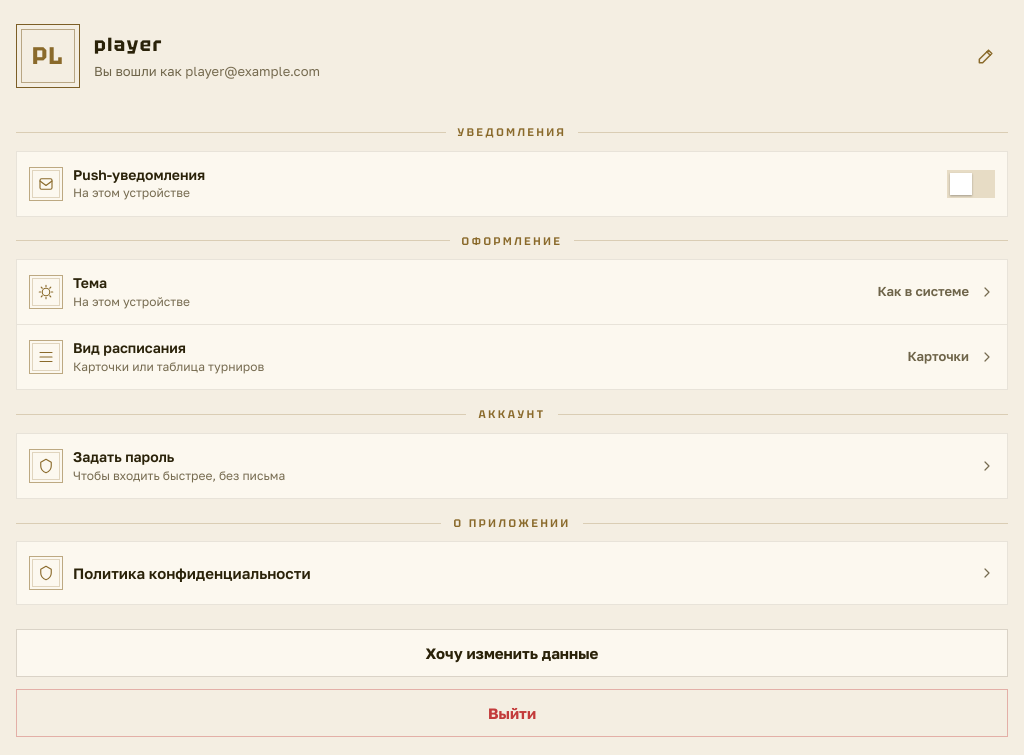
it: ProfilePage › rejects digits-only nickname on the client before PATCH
The width and height of the screenshot is (1024, 755).
Expected: the heading "player" is shown, [94,32,163,57]
Click the button named "Редактировать профиль".
click(986, 56)  # box [964,34,1008,78]
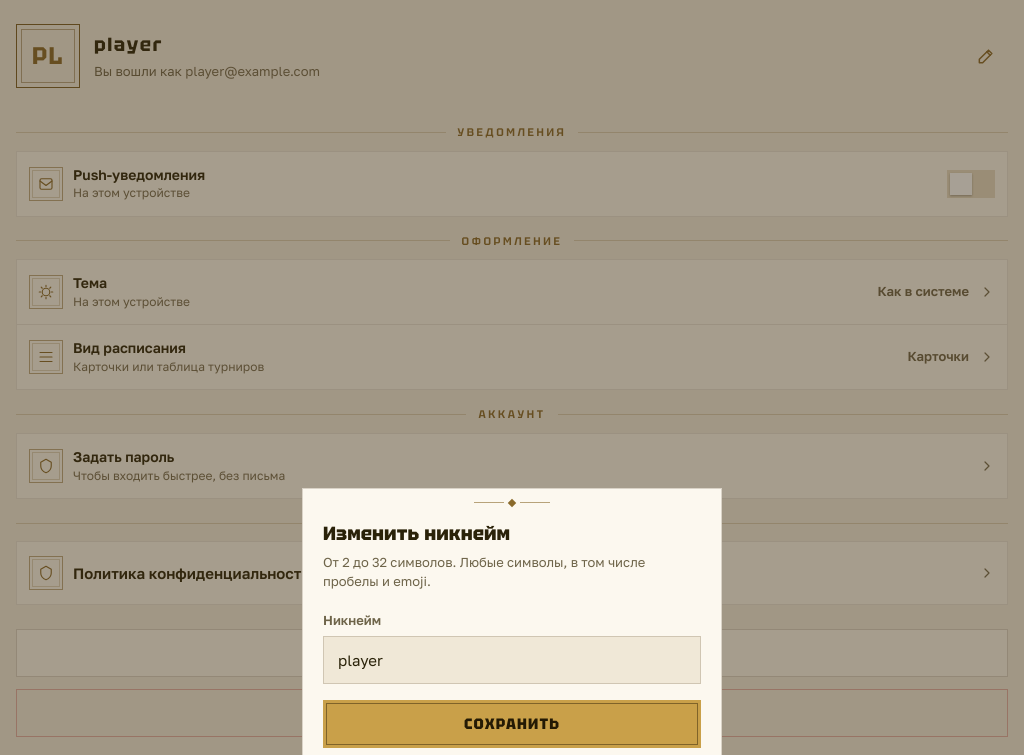
Replace the text in the field labelled "Никнейм" with "1234" at (512, 660), box [323,636,701,684]
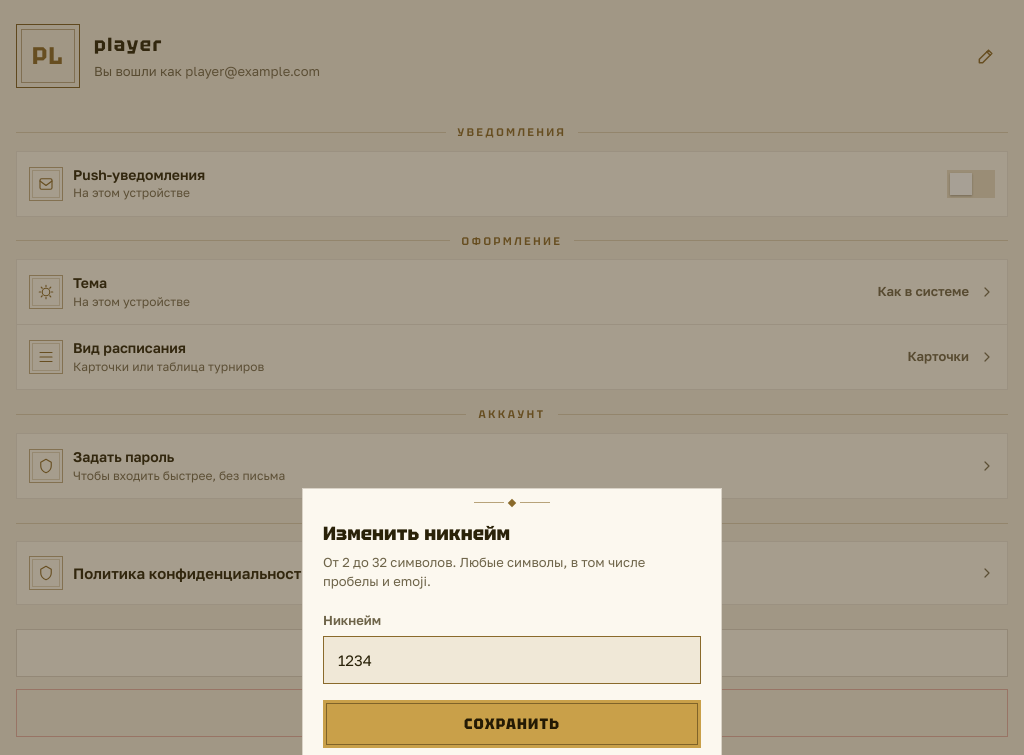
Click the button "Сохранить".
click(512, 724)  # box [323,700,701,748]
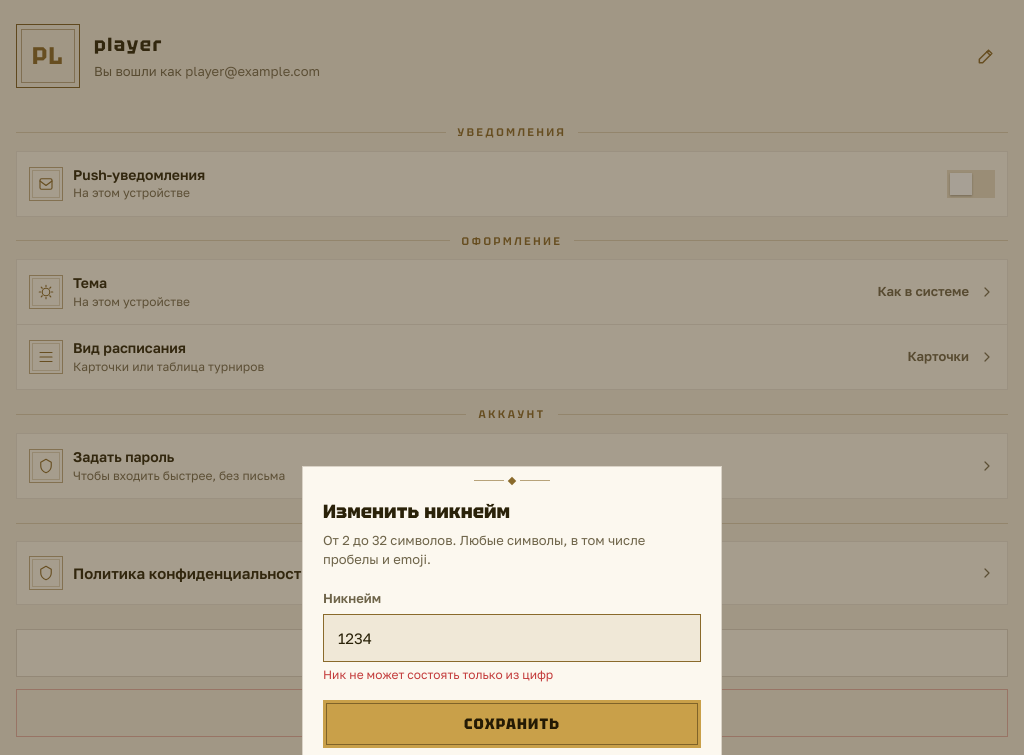
Result: the text "Ник не может состоять только из цифр" is shown at [323,667,553,682]
